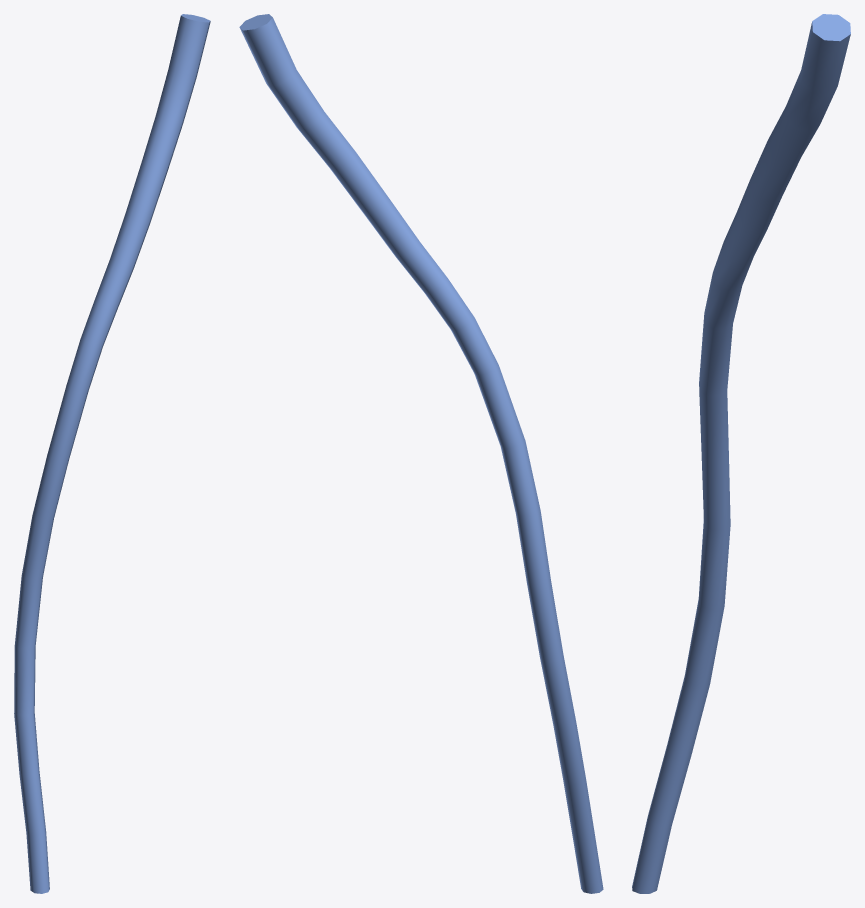
File: veines-radiales.glb
3 views of the same model, side by side, from view 1: azimuth 30°, elevation 25°; view 2: azimuth 150°, elevation 25°; view 3: azimuth 270°, elevation 25° (orthographic). The views are drawn at different scales.
Visible parts, largest first — view 1: veines-radiales; view 2: veines-radiales; view 3: veines-radiales.
Part boxes in pixels (x1,y1,x2,y2): veines-radiales: (14, 14, 210, 893); veines-radiales: (239, 14, 603, 893); veines-radiales: (632, 14, 850, 893).
Bounding box in the file's own units: 0.0362 × 0.1077 × 0.0211.
